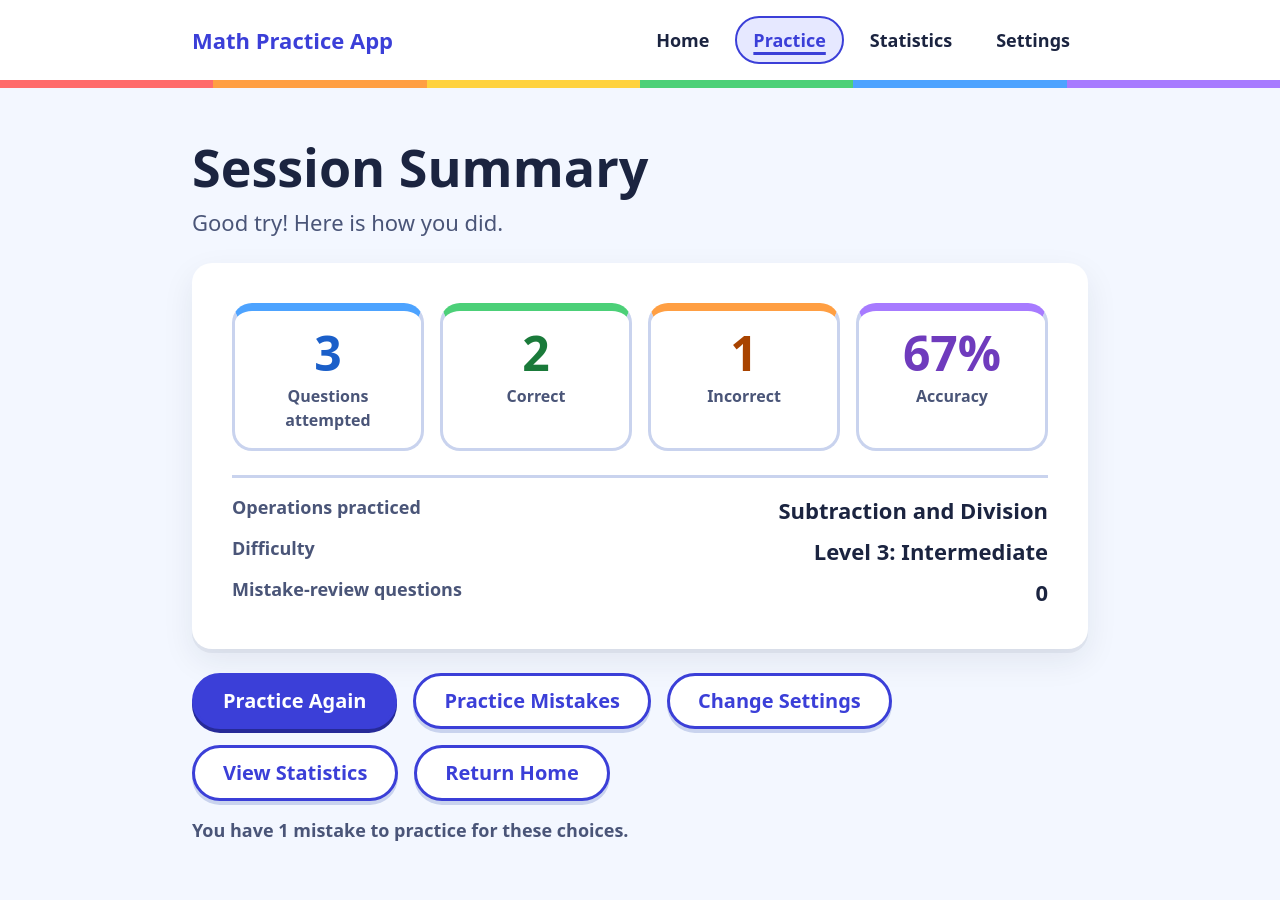
Scenario: SessionSummaryPage › actions › Change Settings › opens the setup page with the session’s choices already selected
Click the link "Change Settings" at (779, 701), box [667,673,892,729]
(page scrolled)
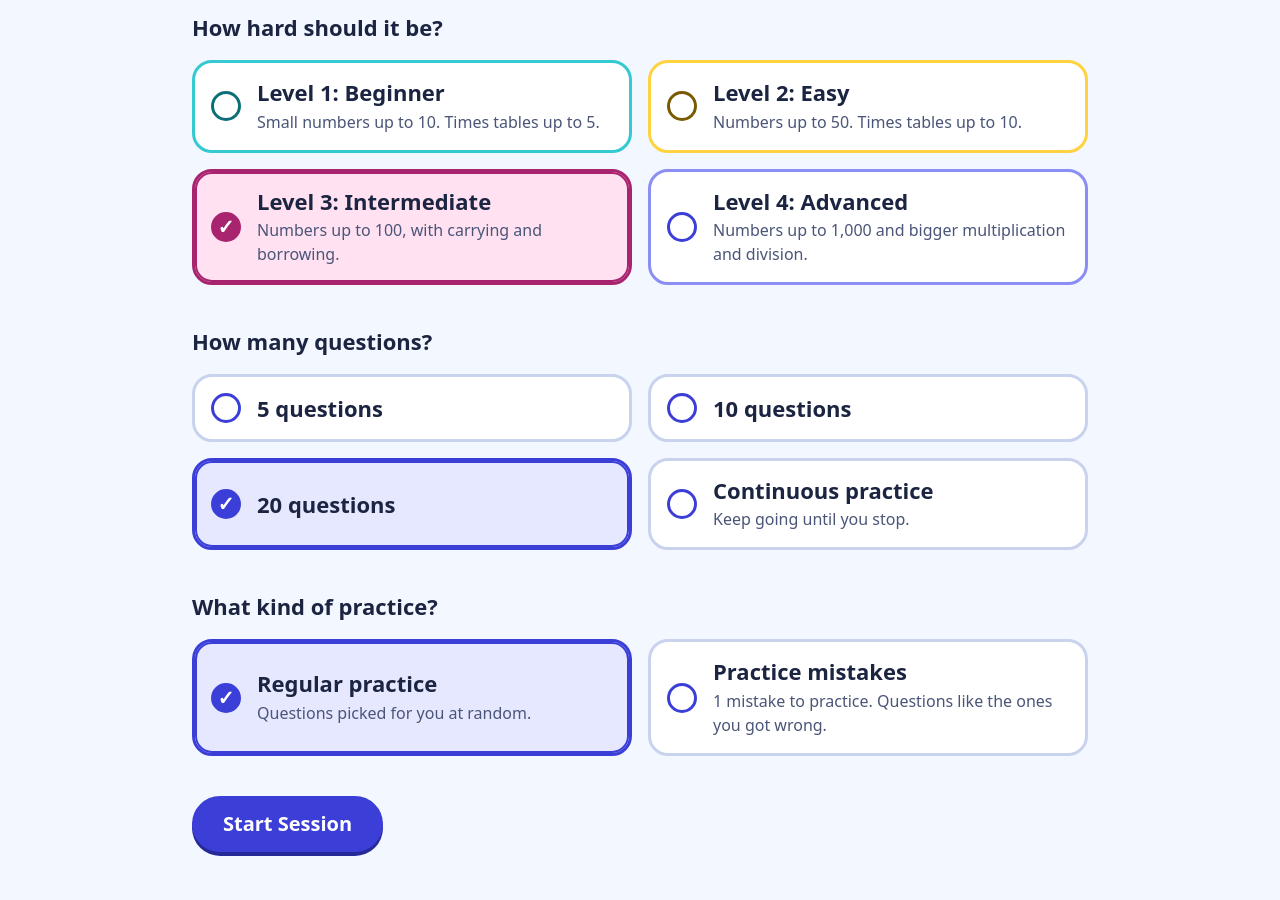
Now the radio button labelled "Level 3: Intermediate" is checked, box [192,169,632,285]
Now the radio button labelled "20 questions" is checked, box [192,458,632,550]
Now the button "Start Session" is enabled, box [192,796,383,852]
